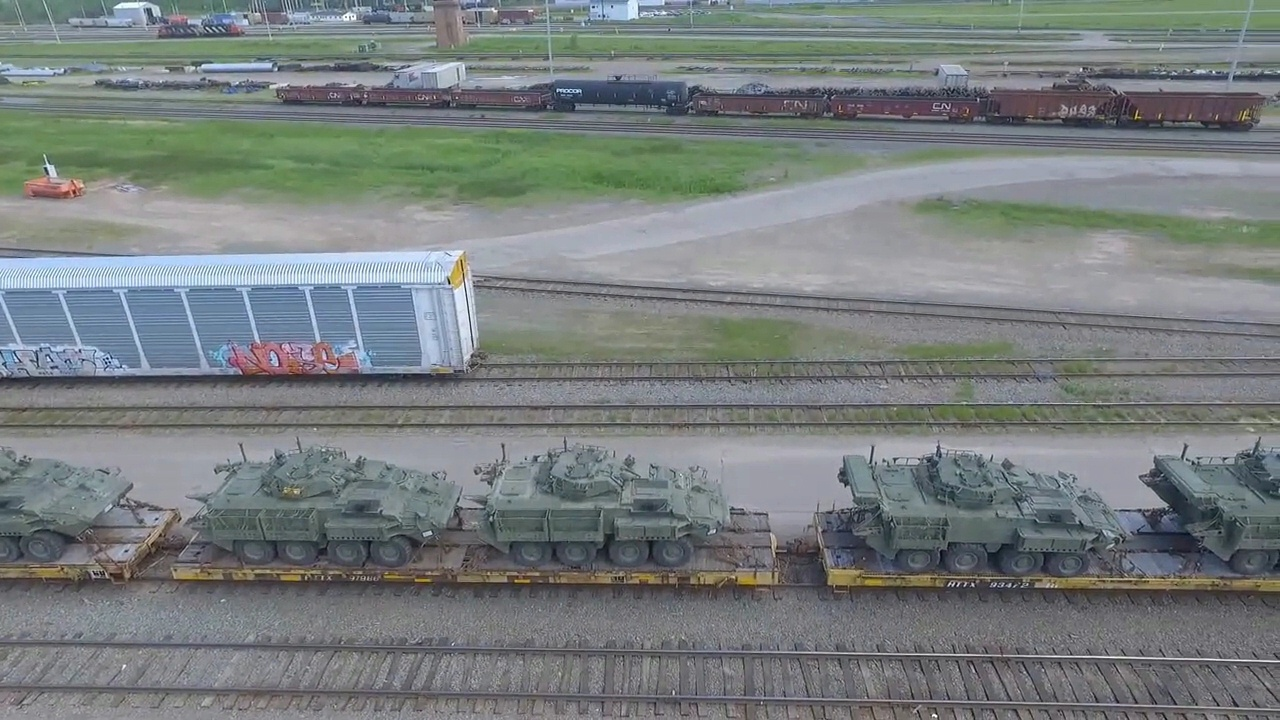tank: (824, 449, 1132, 580), (192, 448, 463, 565), (482, 455, 734, 569), (1143, 446, 1280, 575), (1, 448, 144, 559)
